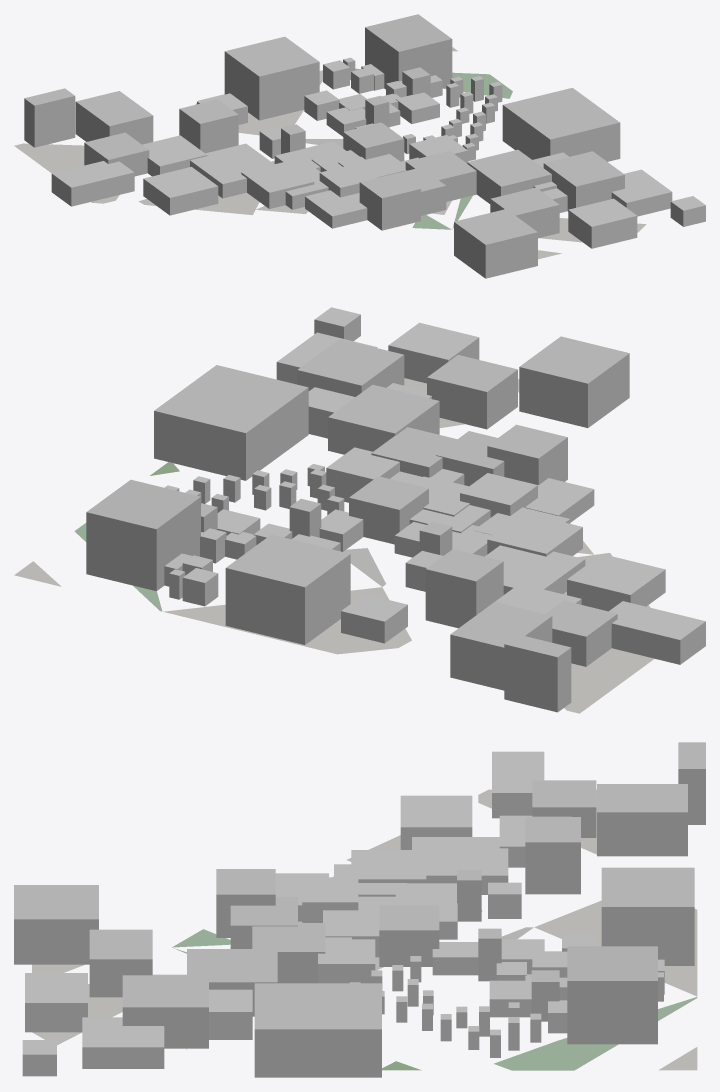
File: 113_110_mid.glb
3 views of the same model, one above another, from view 1: azimuth 30°, elevation 25°; view 2: azimuth 150°, elevation 25°; view 3: azimuth 270°, elevation 25° (orthographic). The views are drawn at different scales.
Bounding box in the file's own units: 536 × 52.64 × 520.
